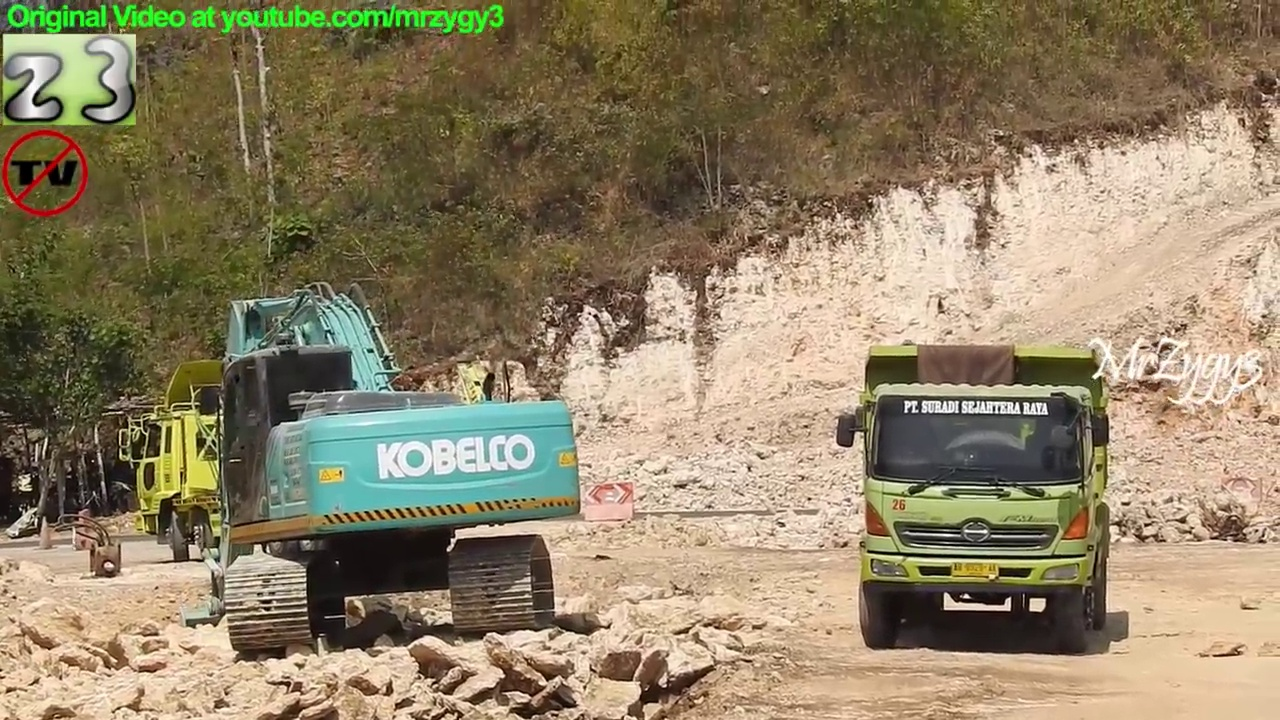excavator: (196, 281, 591, 662)
truck: (833, 340, 1120, 655), (110, 357, 524, 571)
